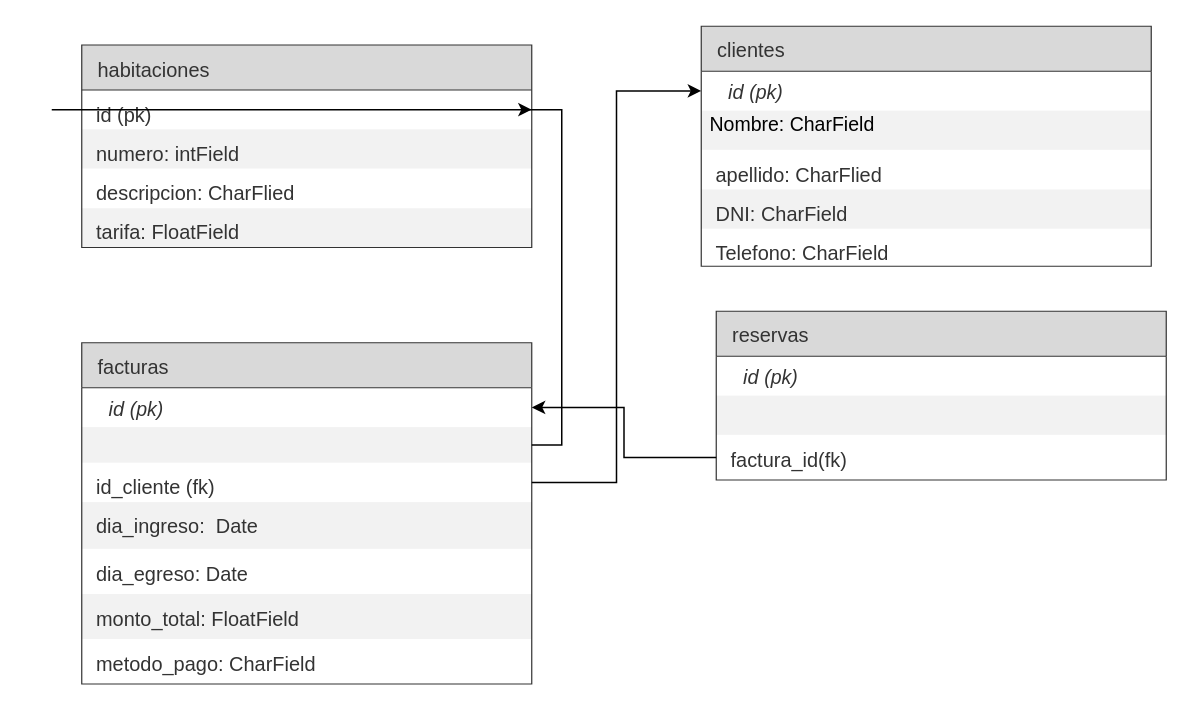
This 1193x714 diagram has some shape labels left out. The centre of each missing label's shape, as x and y in pixels:
"estado: enum('pendiente','pagado', 'eliminado')" goes at [941,414].
"id_habitacion (fk)" goes at [306,444].
